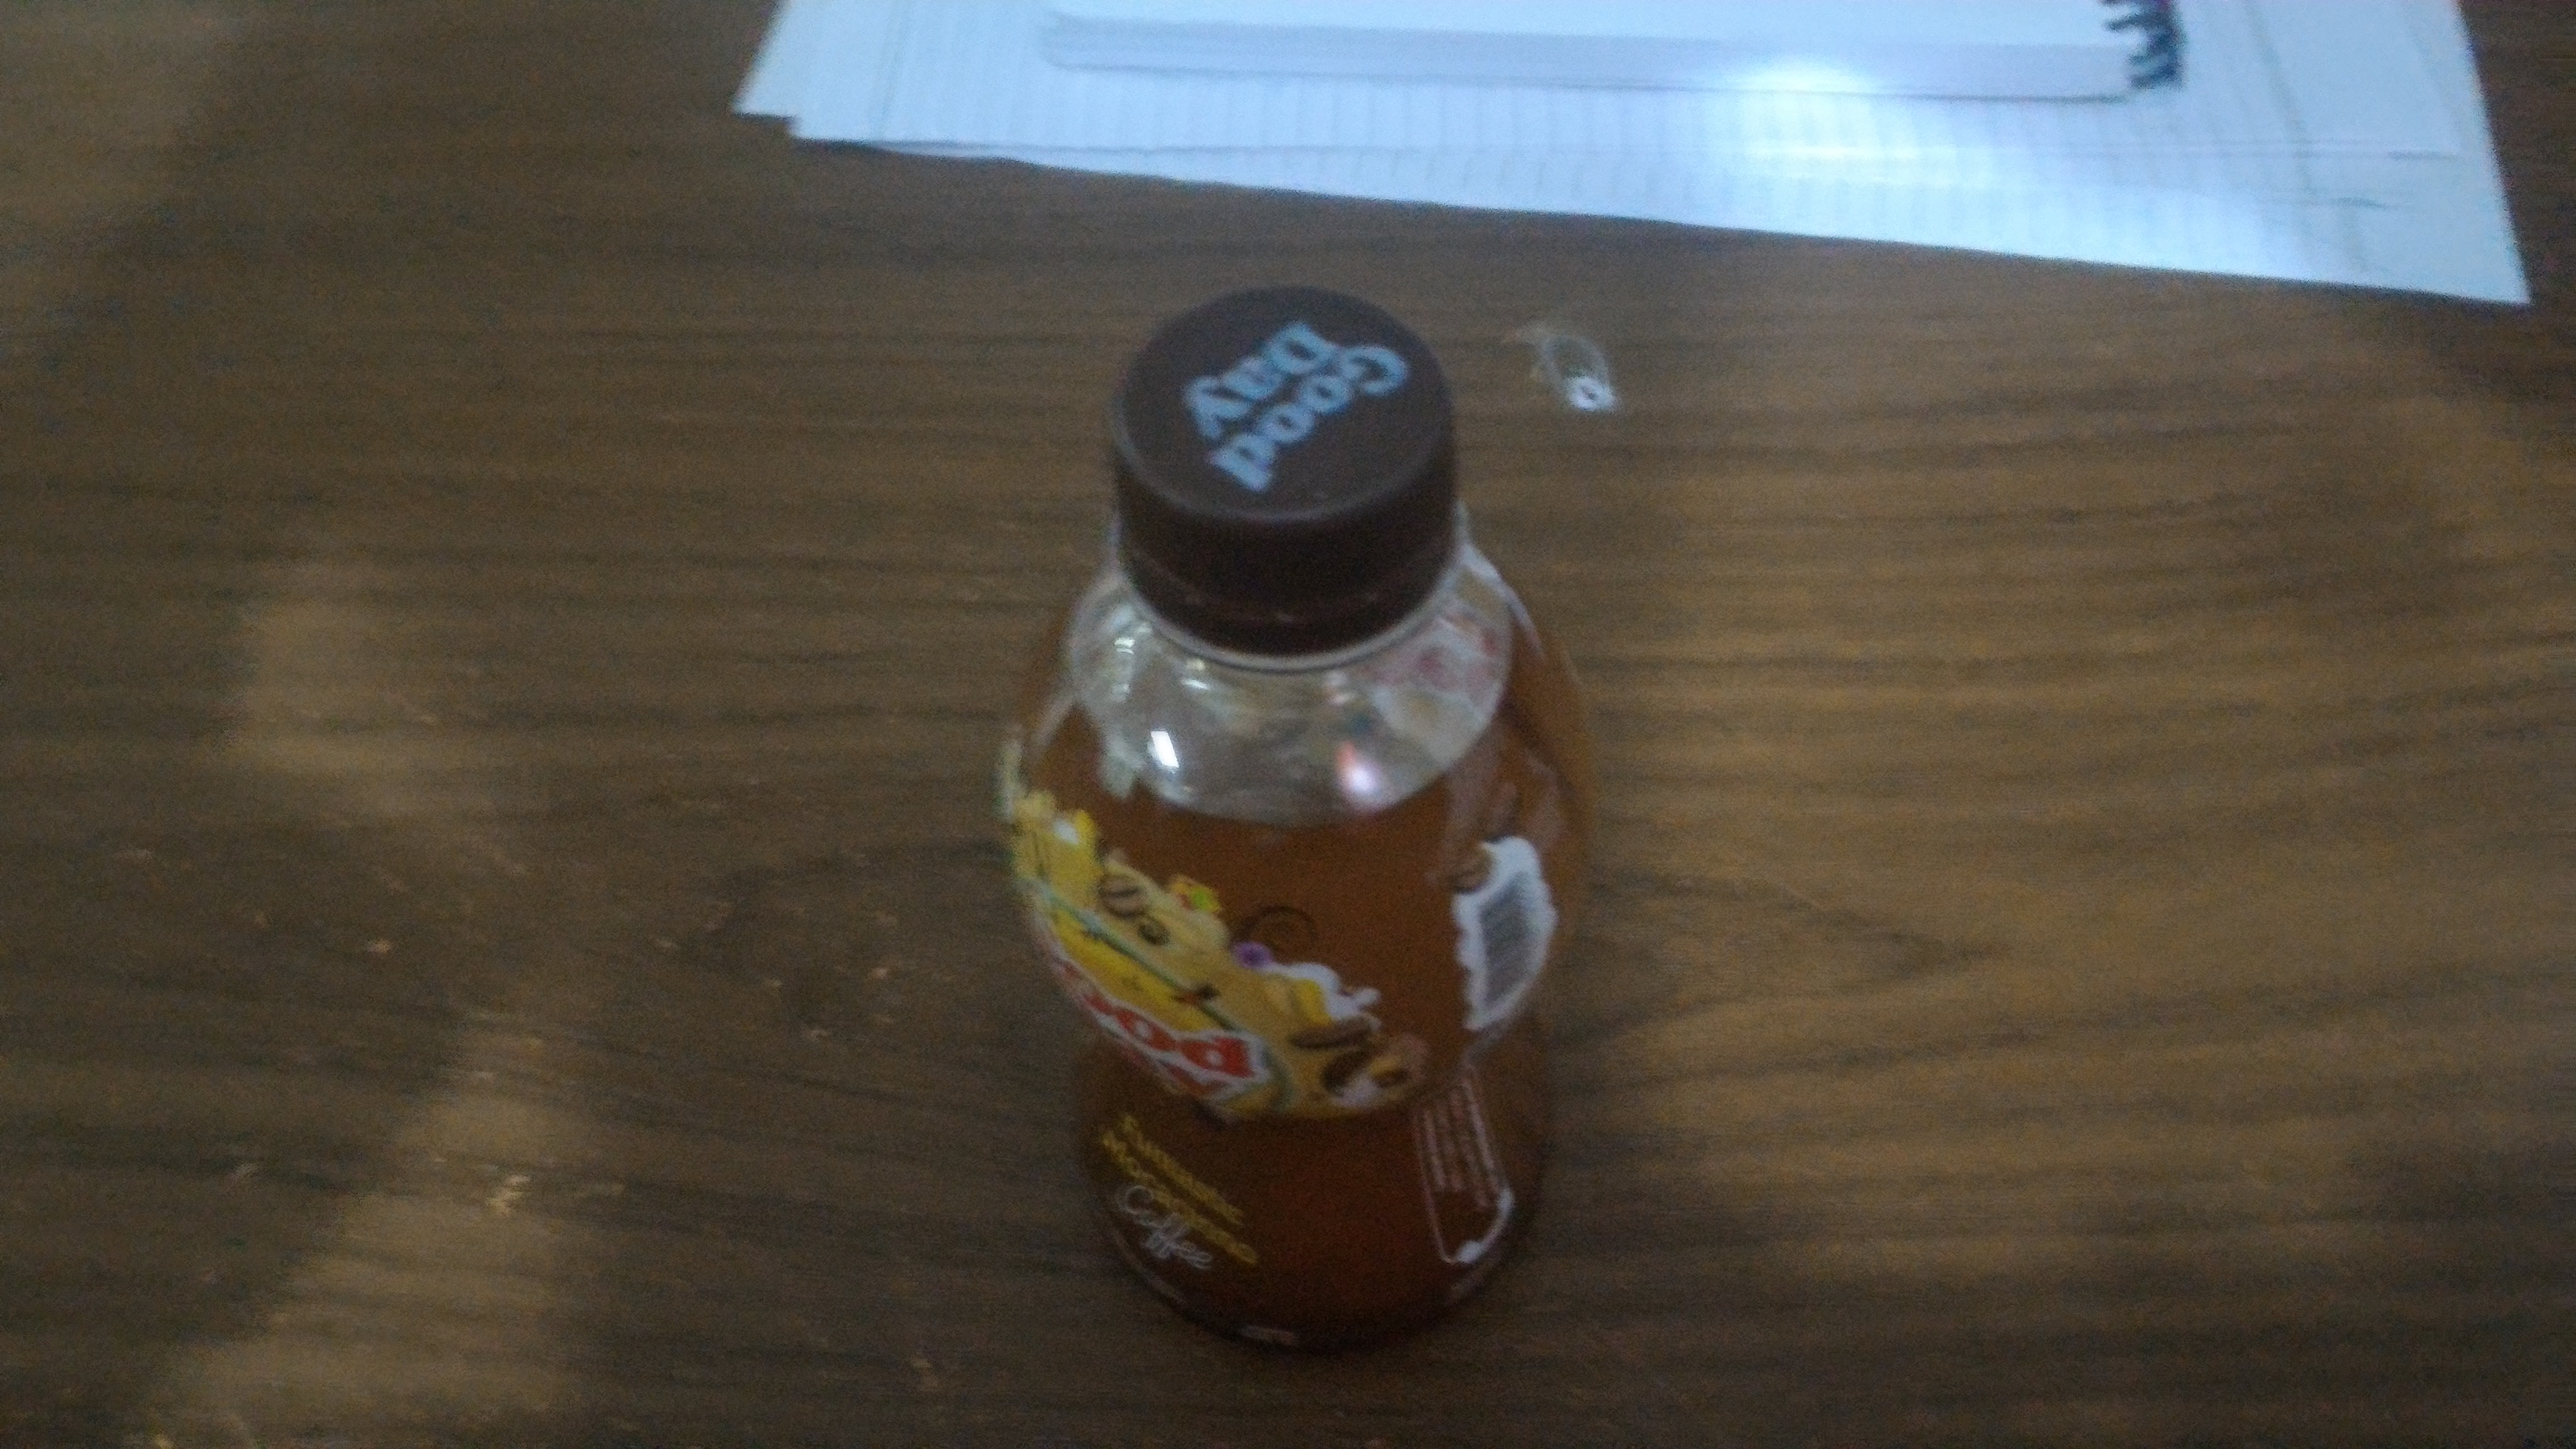botol: (991, 285, 1596, 1348), (1012, 285, 1596, 1348), (1012, 320, 1596, 1348)
